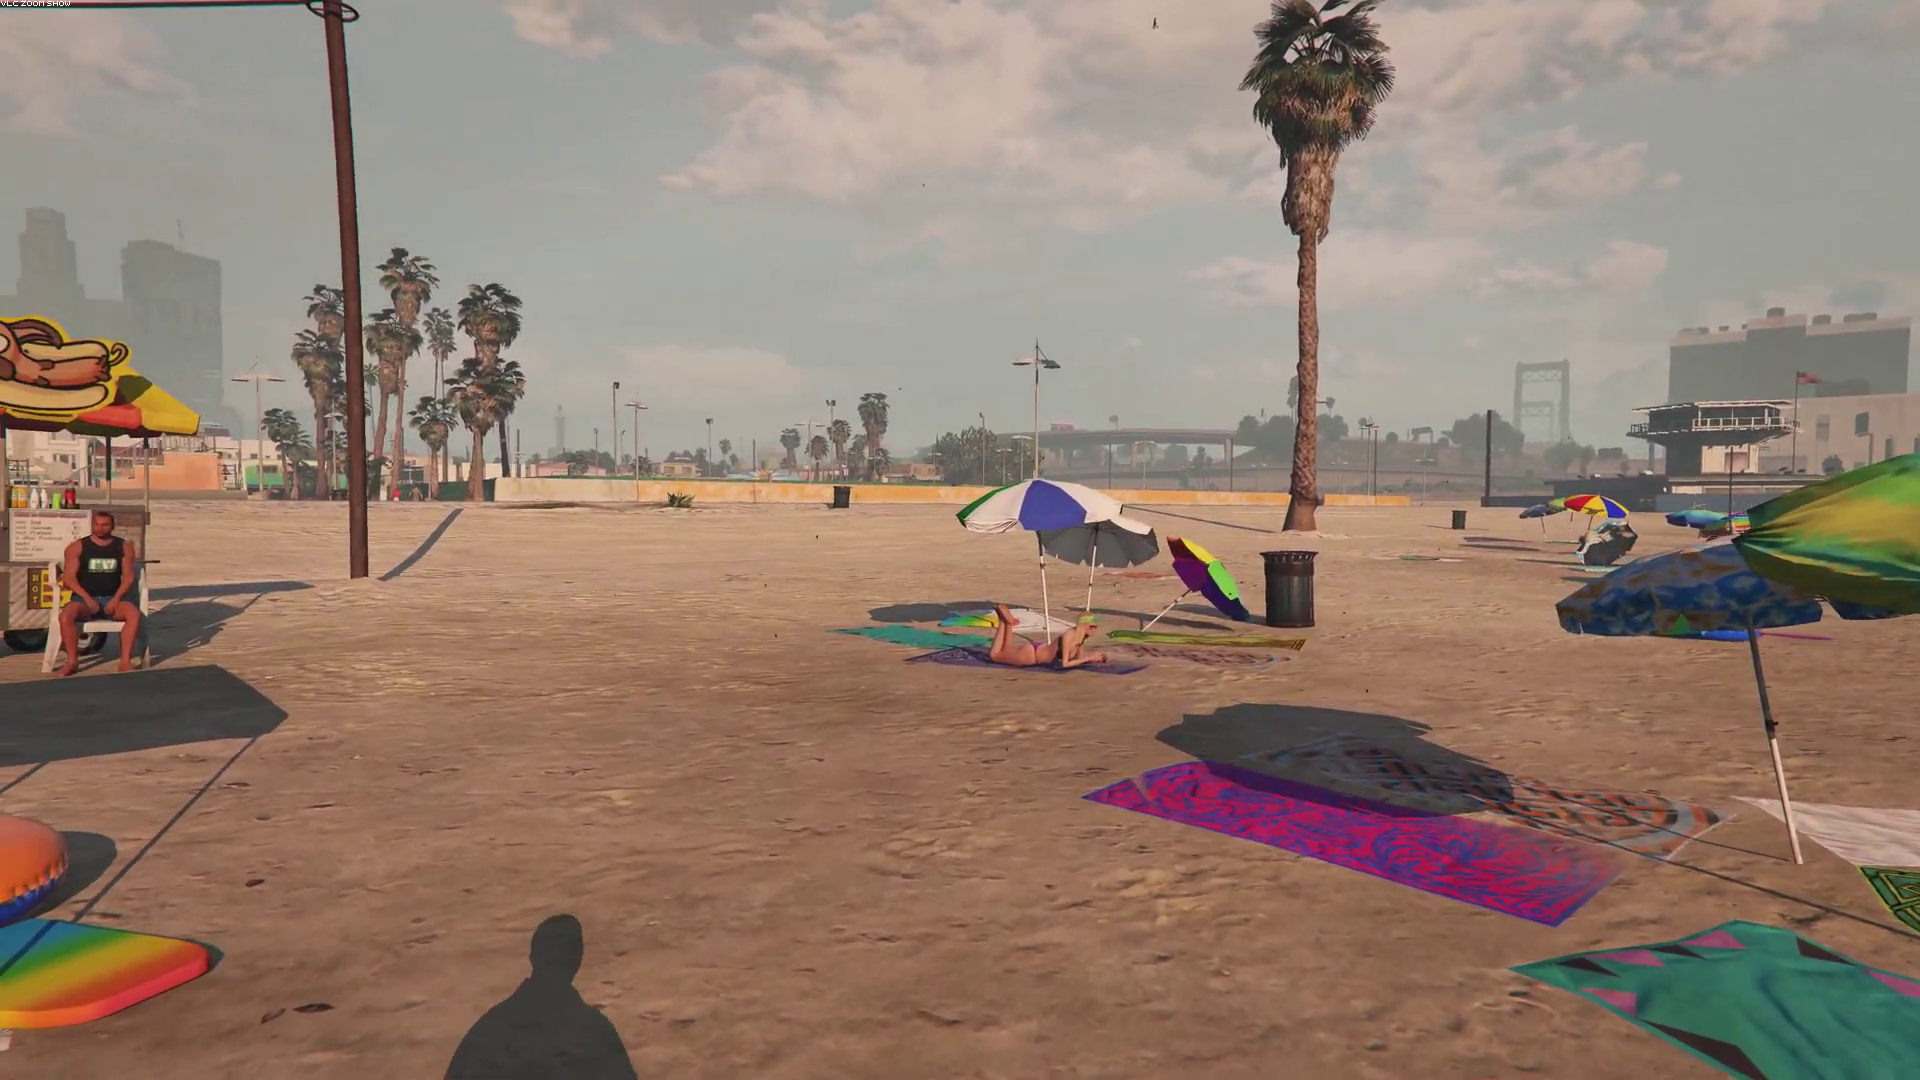person: (55, 511, 145, 670), (985, 603, 1109, 669)
